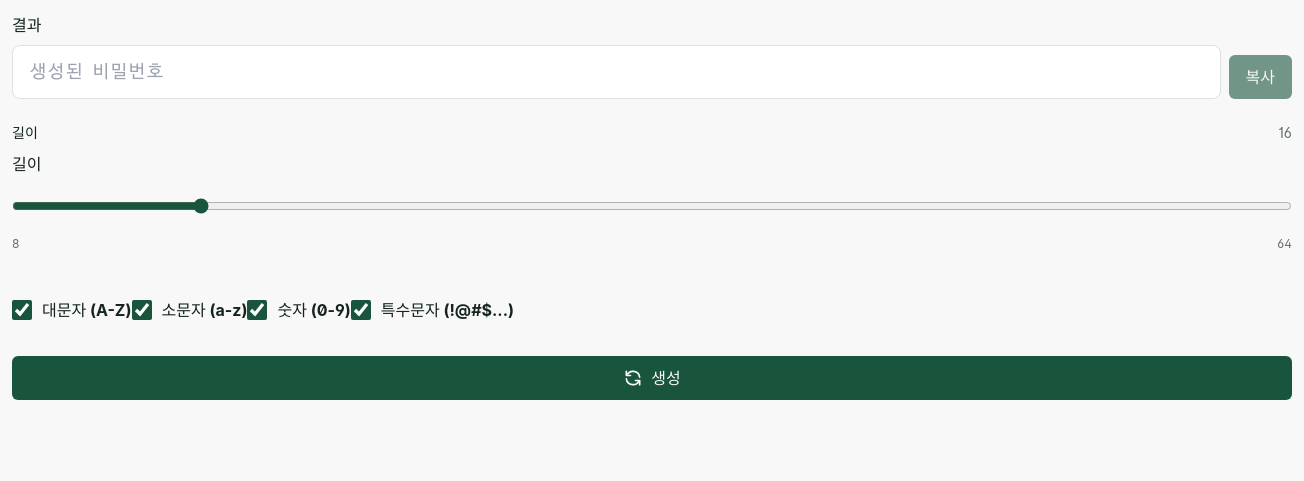
Test case: PasswordGenerator › shows strength indicator after generating password
What coordinates should you click on to do the following:
click the button "생성"
I would click on:
 (652, 378)
Its box is [12,356,1292,400].
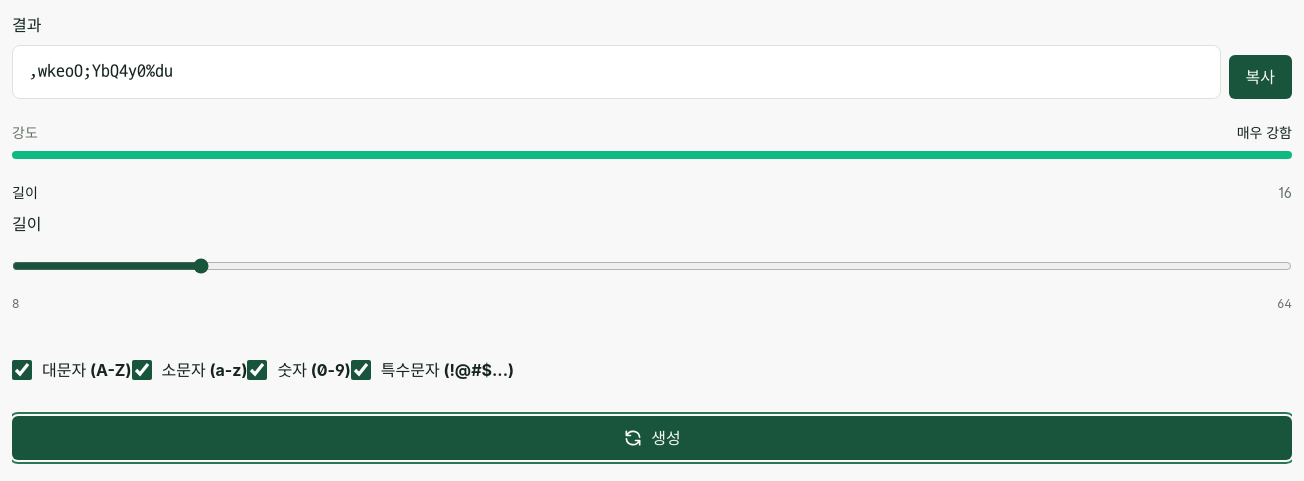
Expected: the text "강도" is shown, [12,123,38,143]
